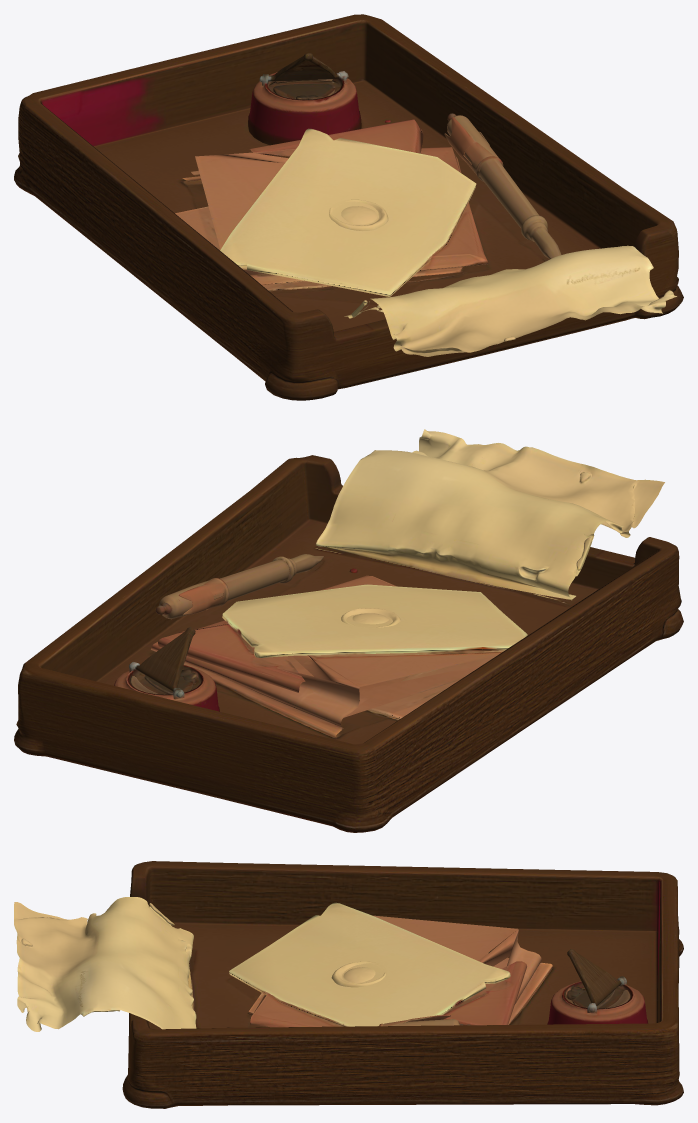
Rendered from correspondence-set.glb.
The picture shows the model from 3 angles, top to bottom: view 1: azimuth 30°, elevation 25°; view 2: azimuth 150°, elevation 25°; view 3: azimuth 270°, elevation 25°; orthographic projection. The views are drawn at different scales.
Visible parts, largest first — view 1: tripo_75f6757d_aab8_4248_be03_c89d2eeb255b; view 2: tripo_75f6757d_aab8_4248_be03_c89d2eeb255b; view 3: tripo_75f6757d_aab8_4248_be03_c89d2eeb255b.
Part boxes in pixels (x1,y1,x2,y2): tripo_75f6757d_aab8_4248_be03_c89d2eeb255b: (14, 14, 683, 400); tripo_75f6757d_aab8_4248_be03_c89d2eeb255b: (14, 429, 683, 832); tripo_75f6757d_aab8_4248_be03_c89d2eeb255b: (14, 861, 683, 1108).
Size of the model in its own units: 0.6392 by 0.1636 by 0.9995.
Materials: 1 (1 with a texture image).
